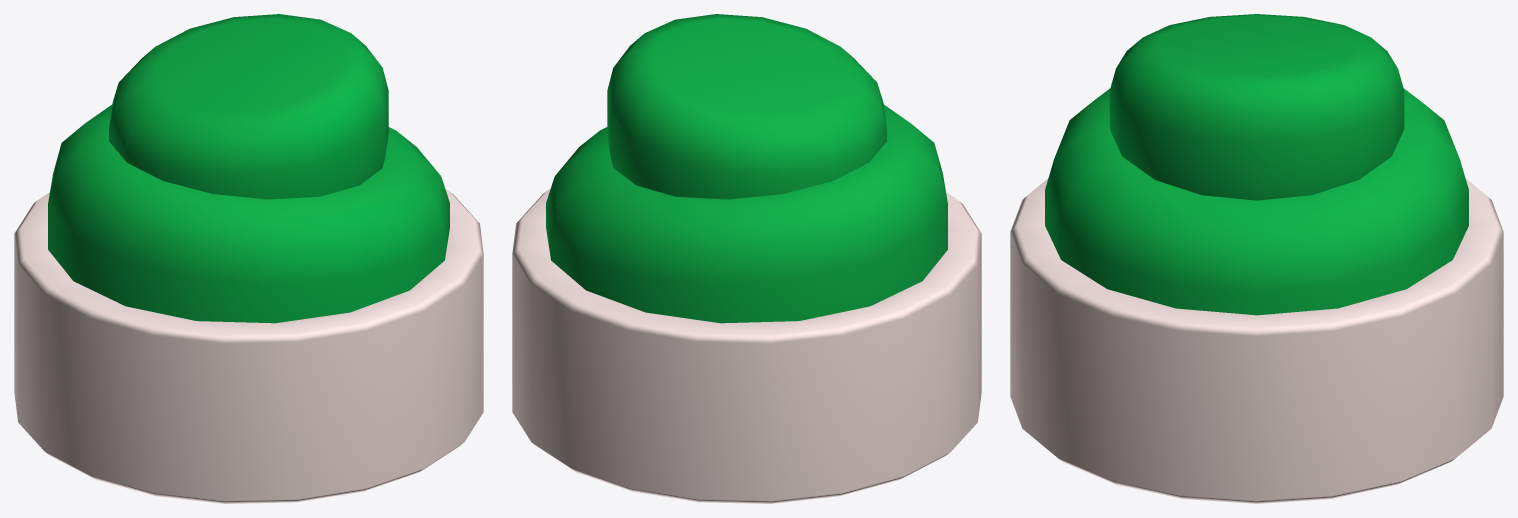
The model's file is City_7_Bush_2.glb.
The picture shows the model from 3 angles, left to right: view 1: azimuth 30°, elevation 25°; view 2: azimuth 150°, elevation 25°; view 3: azimuth 270°, elevation 25°; orthographic projection. The views are drawn at different scales.
Parts seen in each view (by area): view 1: City_7_Bush_2; view 2: City_7_Bush_2; view 3: City_7_Bush_2.
Part boxes in pixels (left/top/right/bottom): City_7_Bush_2: left=14, top=14, right=483, bottom=503; City_7_Bush_2: left=512, top=14, right=981, bottom=503; City_7_Bush_2: left=1010, top=14, right=1503, bottom=503.
Size of the model in its own units: 1.61 by 1.33 by 1.61.
Materials: 1 (1 with a texture image).
